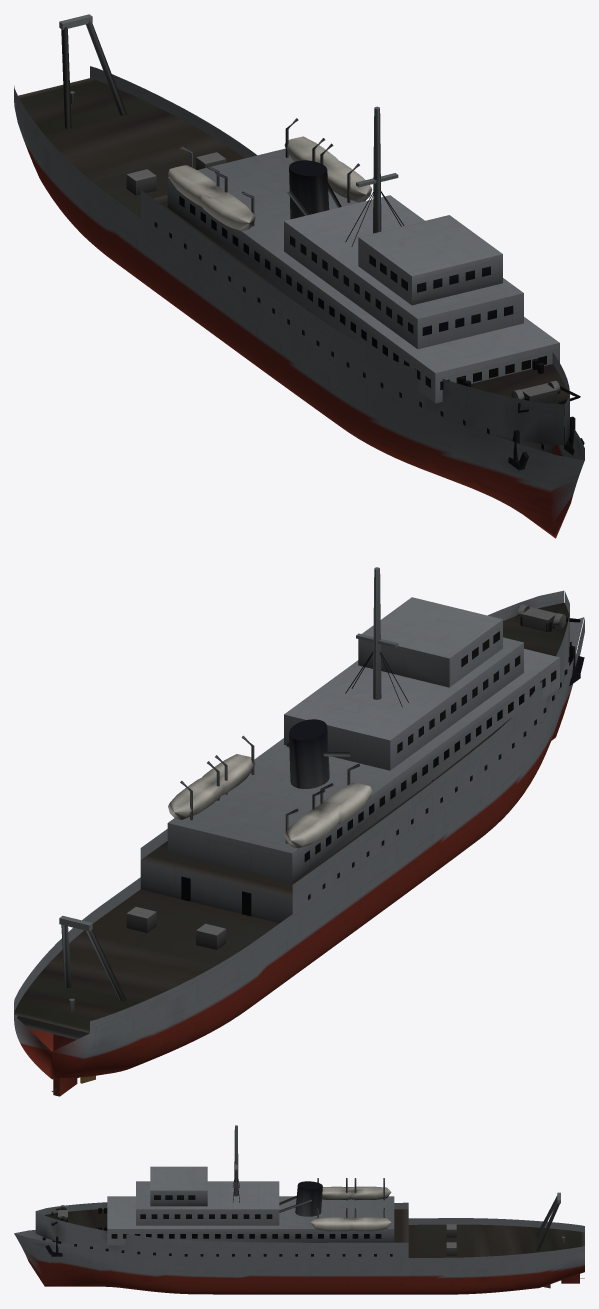
The model's file is model_built.glb.
The picture shows the model from 3 angles, top to bottom: view 1: azimuth 30°, elevation 25°; view 2: azimuth 150°, elevation 25°; view 3: azimuth 270°, elevation 25°; orthographic projection. The views are drawn at different scales.
Visible parts, largest first — view 1: main; view 2: main; view 3: main.
Boxes of the visible parts, x1,y1,x2,y2 form: main: (14,14,584,538); main: (14,567,584,1096); main: (14,1125,584,1294).
Size of the model in its own units: 13.22 by 24.83 by 79.6.
Materials: 1 (1 with a texture image).
